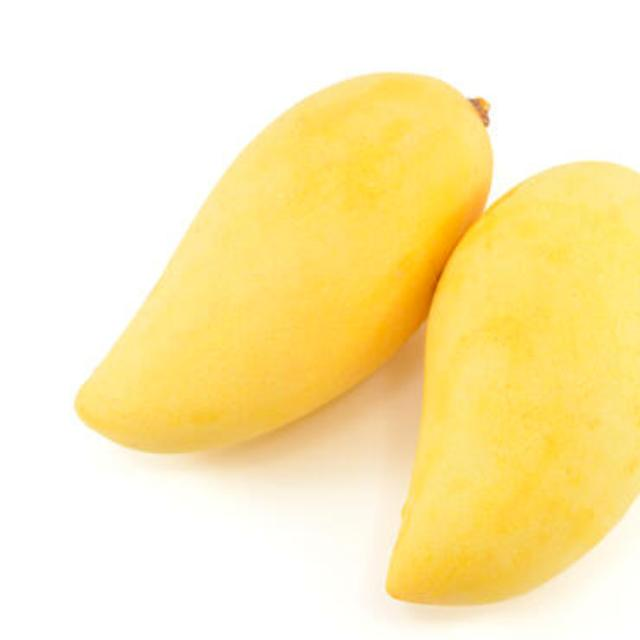mango: (75, 71, 492, 453), (386, 154, 640, 607)
